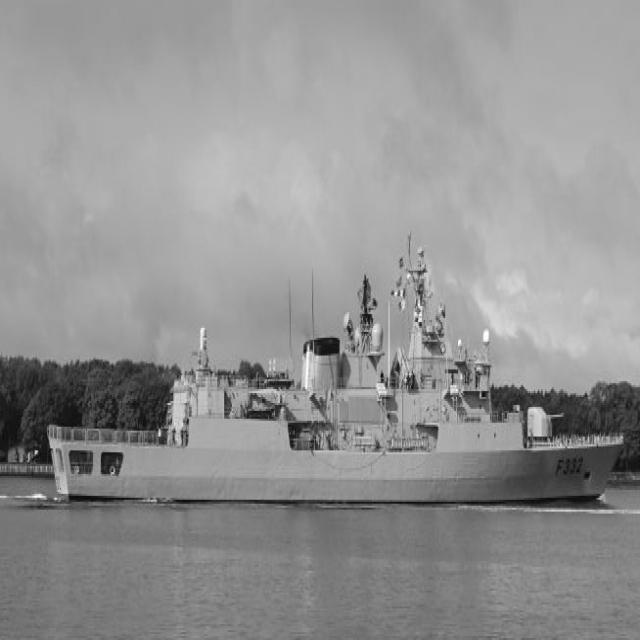Fragata: (46, 230, 626, 511)
